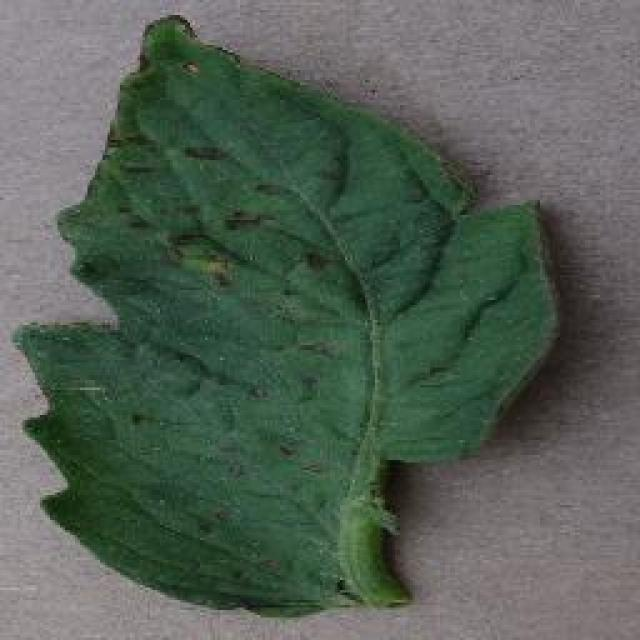Tomato bacterial spot leaf: (34, 17, 551, 615)
